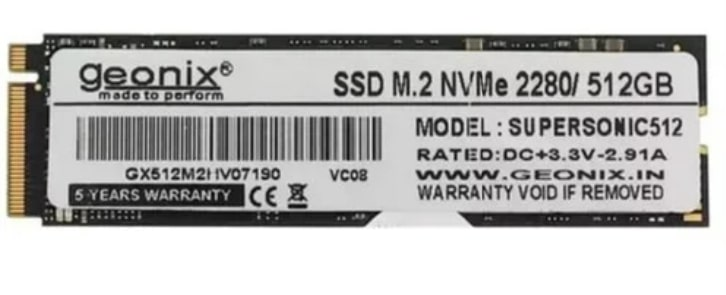ssd2280: (4, 29, 713, 231)
